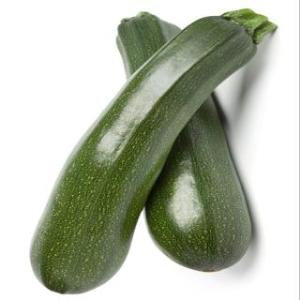zucchini: (132, 18, 272, 272)
